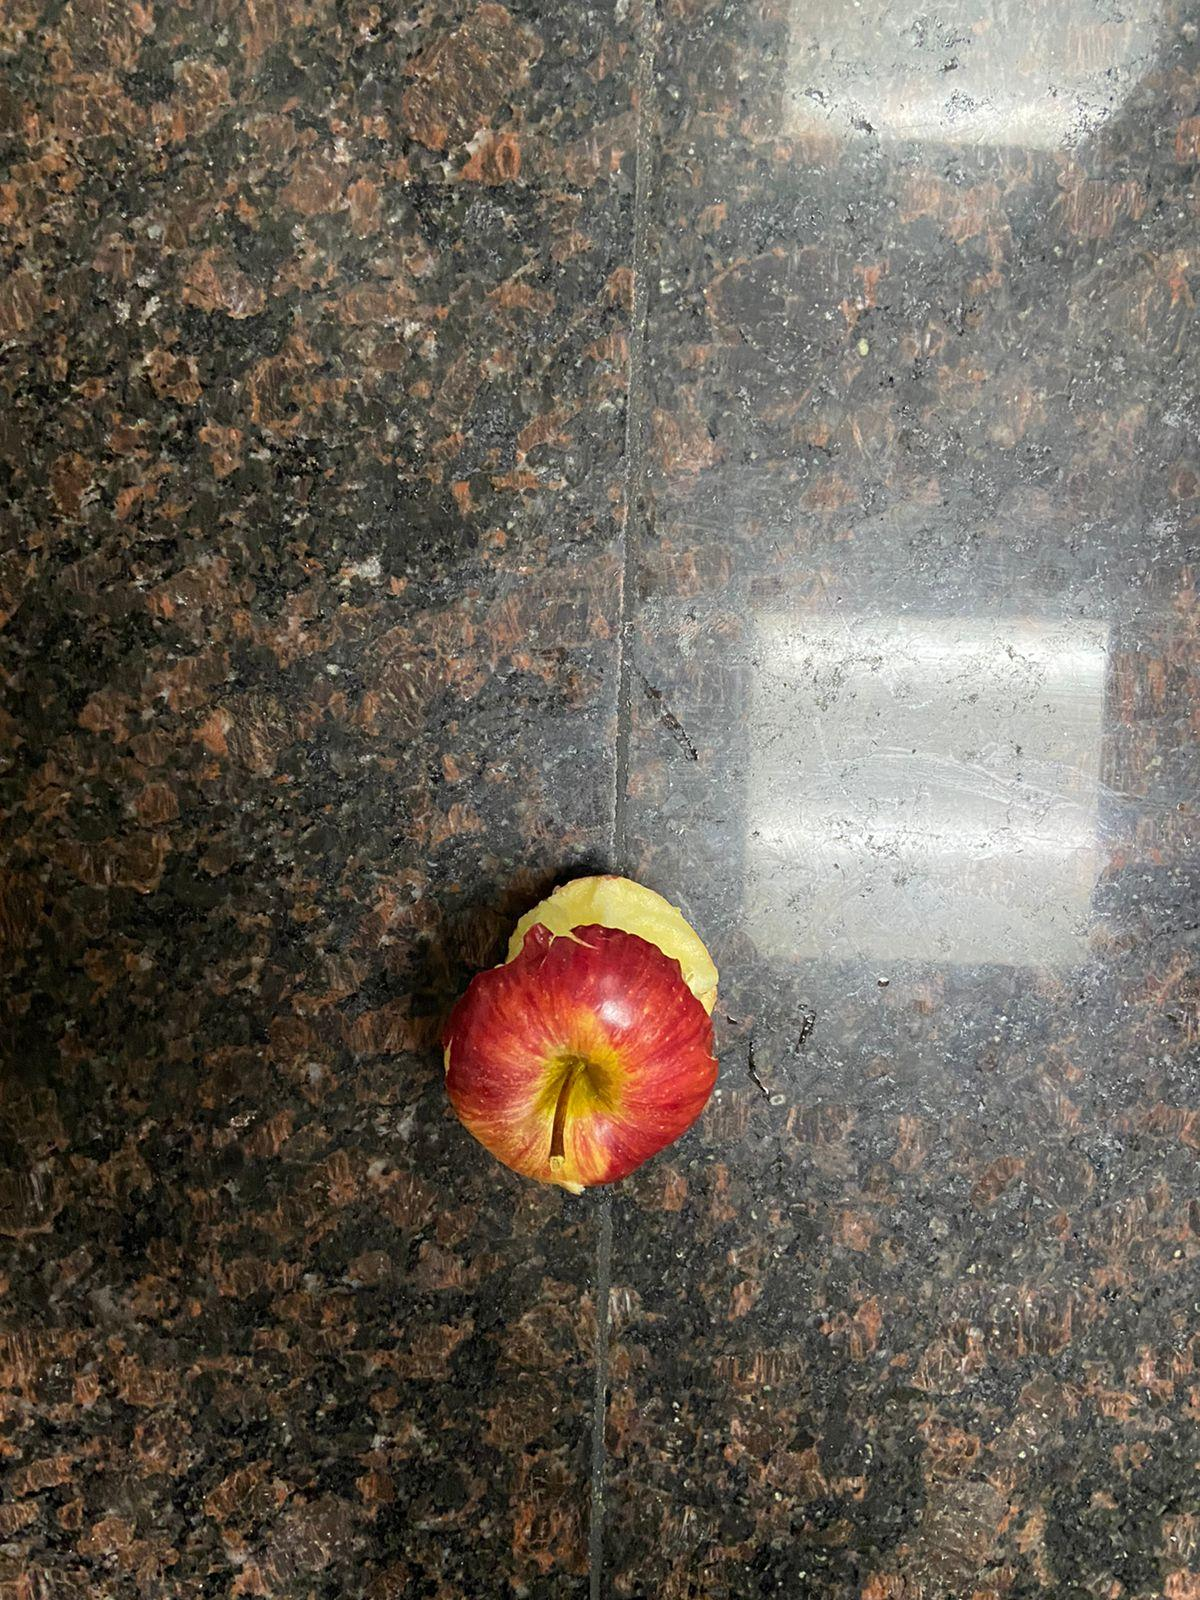Apple: (437, 863, 730, 1203)
